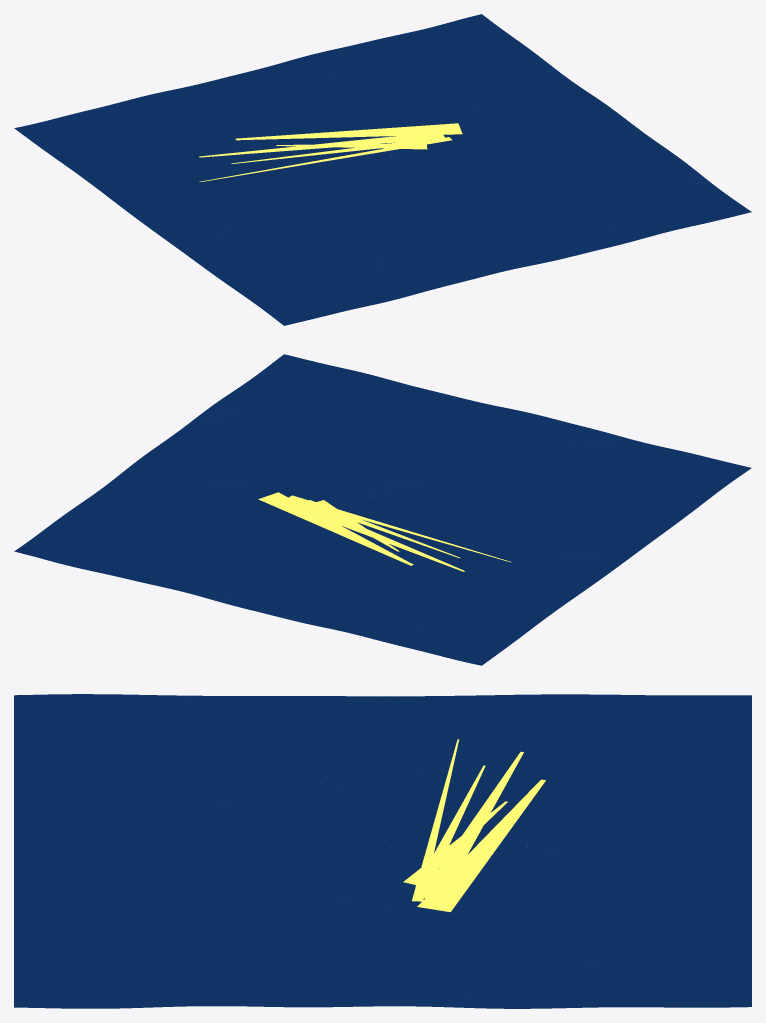
Rendered from aetheria_ocean.glb.
3 renders of one model, top to bottom at view 1: azimuth 30°, elevation 25°; view 2: azimuth 150°, elevation 25°; view 3: azimuth 270°, elevation 25°, orthographic. The views are drawn at different scales.
Parts seen in each view (by area): view 1: Aetheria Ocean — 900 Unit Base, Irregular God Ray 03, Irregular God Ray 01, Irregular God Ray 02, Irregular God Ray 05; view 2: Aetheria Ocean — 900 Unit Base, Irregular God Ray 03, Irregular God Ray 01, Irregular God Ray 02, Irregular God Ray 05; view 3: Aetheria Ocean — 900 Unit Base, Irregular God Ray 03, Irregular God Ray 01, Irregular God Ray 02, Irregular God Ray 05.
Boxes of the visible parts, box(x1,y1,x2,y2) form: Aetheria Ocean — 900 Unit Base: box(14, 14, 751, 325); Irregular God Ray 03: box(235, 123, 462, 140); Irregular God Ray 01: box(199, 134, 445, 157); Irregular God Ray 02: box(231, 138, 432, 163); Irregular God Ray 05: box(199, 137, 452, 181); Aetheria Ocean — 900 Unit Base: box(14, 354, 751, 665); Irregular God Ray 03: box(258, 492, 413, 565); Irregular God Ray 01: box(291, 498, 464, 571); Irregular God Ray 02: box(303, 500, 460, 558); Irregular God Ray 05: box(289, 495, 511, 562); Aetheria Ocean — 900 Unit Base: box(14, 694, 751, 1008); Irregular God Ray 03: box(417, 779, 545, 912); Irregular God Ray 01: box(419, 751, 523, 898); Irregular God Ray 02: box(415, 765, 485, 888); Irregular God Ray 05: box(412, 739, 459, 901).
Bounding box in the file's own units: 900 × 25.06 × 900.
Materials: 3 (1 with a texture image).
